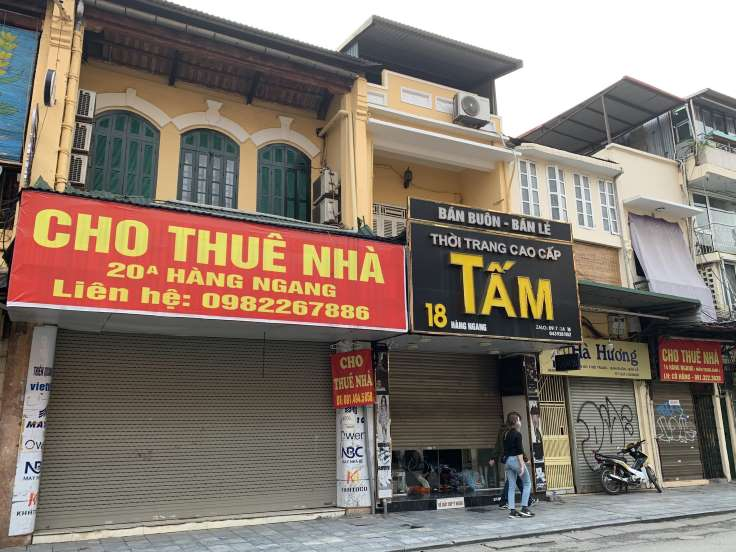banner: (13, 200, 406, 334), (411, 190, 584, 350), (539, 330, 663, 386), (654, 339, 727, 387)
